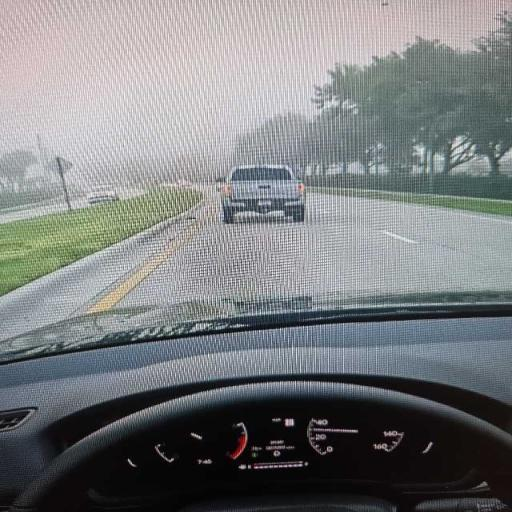car: (222, 165, 305, 223), (88, 185, 119, 205)
lane: (119, 194, 511, 305), (0, 198, 67, 223)
